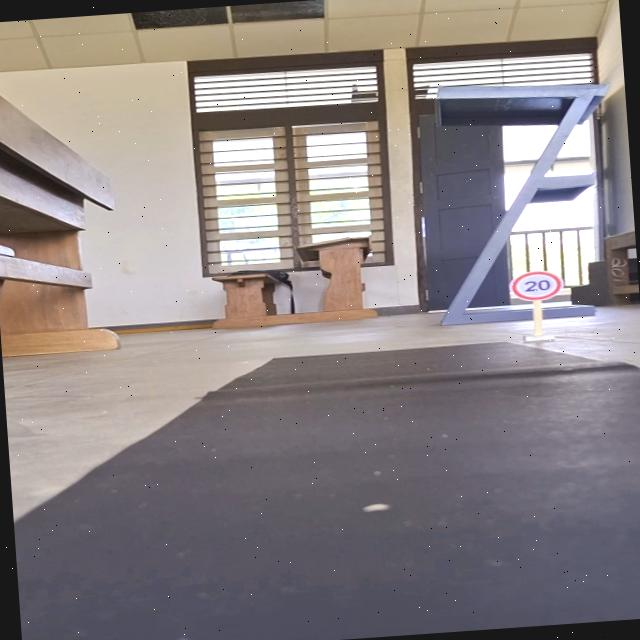Speed20: (506, 267, 565, 304)
